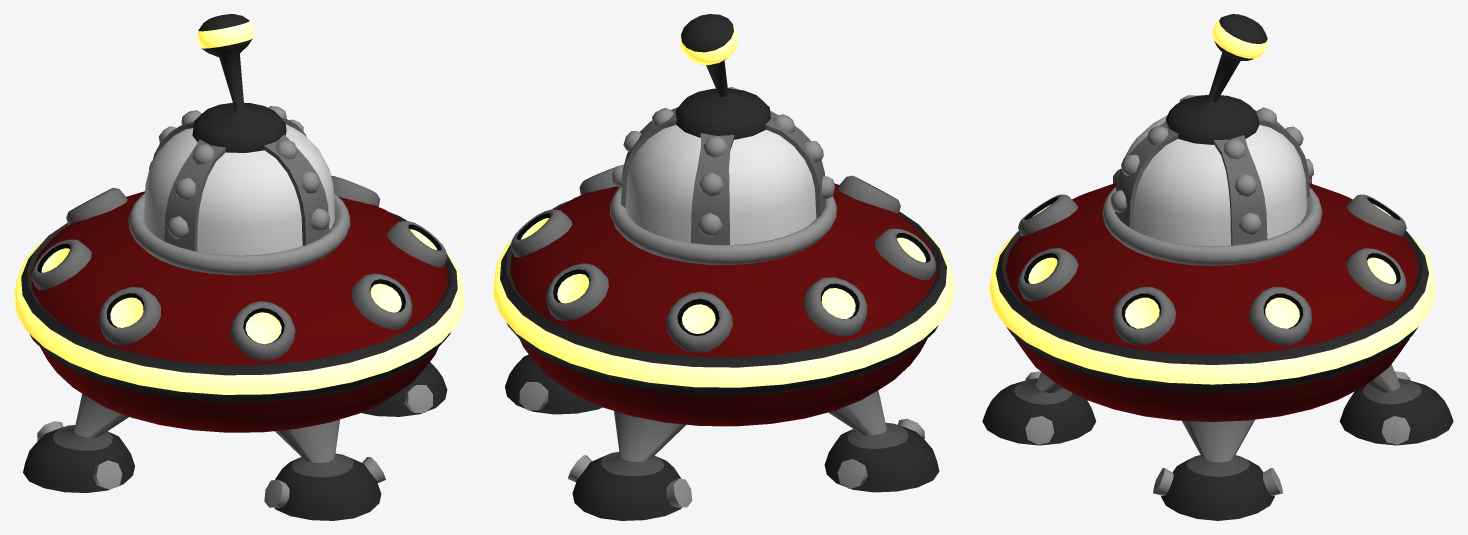
File: mesh_Spaceship_Trap_SwitchingBumper.fbx
3 renders of one model, left to right at view 1: azimuth 30°, elevation 25°; view 2: azimuth 150°, elevation 25°; view 3: azimuth 270°, elevation 25°, orthographic. The views are drawn at different scales.
Parts seen in each view (by area): view 1: mesh_Spaceship_Trap_SwitchingBumper; view 2: mesh_Spaceship_Trap_SwitchingBumper; view 3: mesh_Spaceship_Trap_SwitchingBumper.
Part boxes in pixels (left/top/right/bottom): mesh_Spaceship_Trap_SwitchingBumper: left=14, top=14, right=464, bottom=520; mesh_Spaceship_Trap_SwitchingBumper: left=493, top=14, right=953, bottom=520; mesh_Spaceship_Trap_SwitchingBumper: left=982, top=14, right=1453, bottom=520.
Size of the model in its own units: 463 by 438 by 463.
